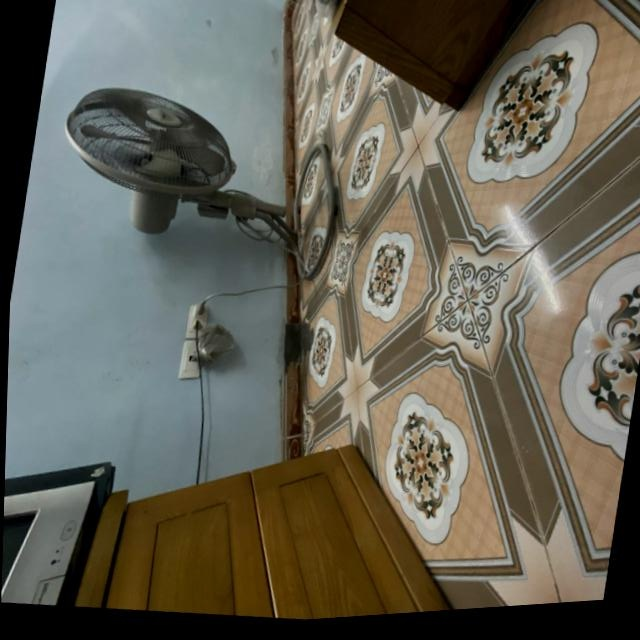outlet: (177, 339, 206, 383), (184, 303, 209, 341)
